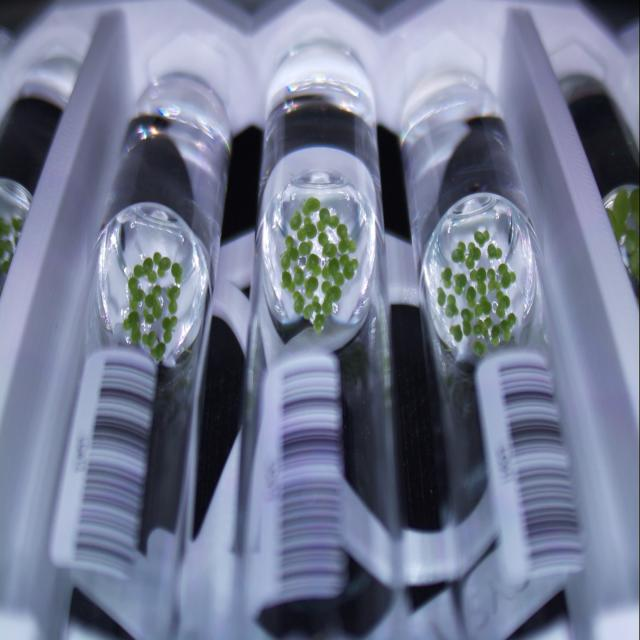Lemna-Gibba: (321, 282, 341, 315), (134, 257, 158, 284), (280, 235, 299, 269), (336, 223, 356, 255), (144, 285, 162, 319), (122, 310, 140, 343), (322, 259, 344, 286), (318, 232, 338, 257), (129, 277, 144, 310), (318, 207, 339, 230), (152, 252, 171, 277), (162, 315, 178, 344), (166, 282, 180, 315), (298, 217, 318, 240), (302, 295, 321, 319), (470, 267, 486, 295), (495, 290, 510, 319), (465, 242, 481, 269), (500, 312, 516, 339), (499, 264, 516, 289), (474, 317, 492, 339), (304, 275, 319, 299), (342, 259, 359, 280), (306, 254, 321, 277), (461, 309, 474, 335), (302, 197, 320, 215), (445, 294, 459, 317), (150, 342, 166, 362), (292, 290, 305, 314), (281, 270, 295, 292), (141, 330, 156, 350), (451, 242, 466, 262), (454, 274, 468, 295), (488, 269, 500, 292), (474, 230, 490, 247), (475, 297, 491, 314), (171, 262, 182, 284), (441, 267, 452, 289), (290, 210, 302, 230), (298, 240, 312, 257), (490, 324, 501, 345), (488, 243, 502, 259), (314, 314, 325, 334), (466, 287, 476, 309), (450, 325, 462, 342), (474, 340, 486, 357), (294, 265, 304, 285), (142, 309, 154, 324), (438, 287, 446, 307), (340, 255, 346, 261)
